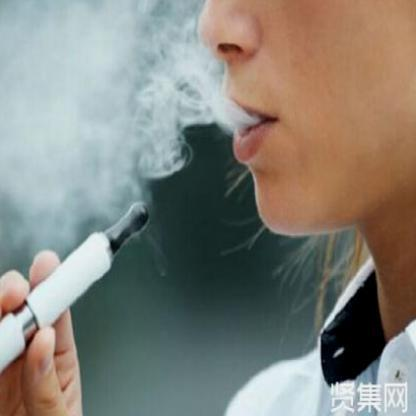cigarette: (0, 198, 160, 381)
person: (201, 3, 415, 415)
smoke: (0, 0, 189, 236)
